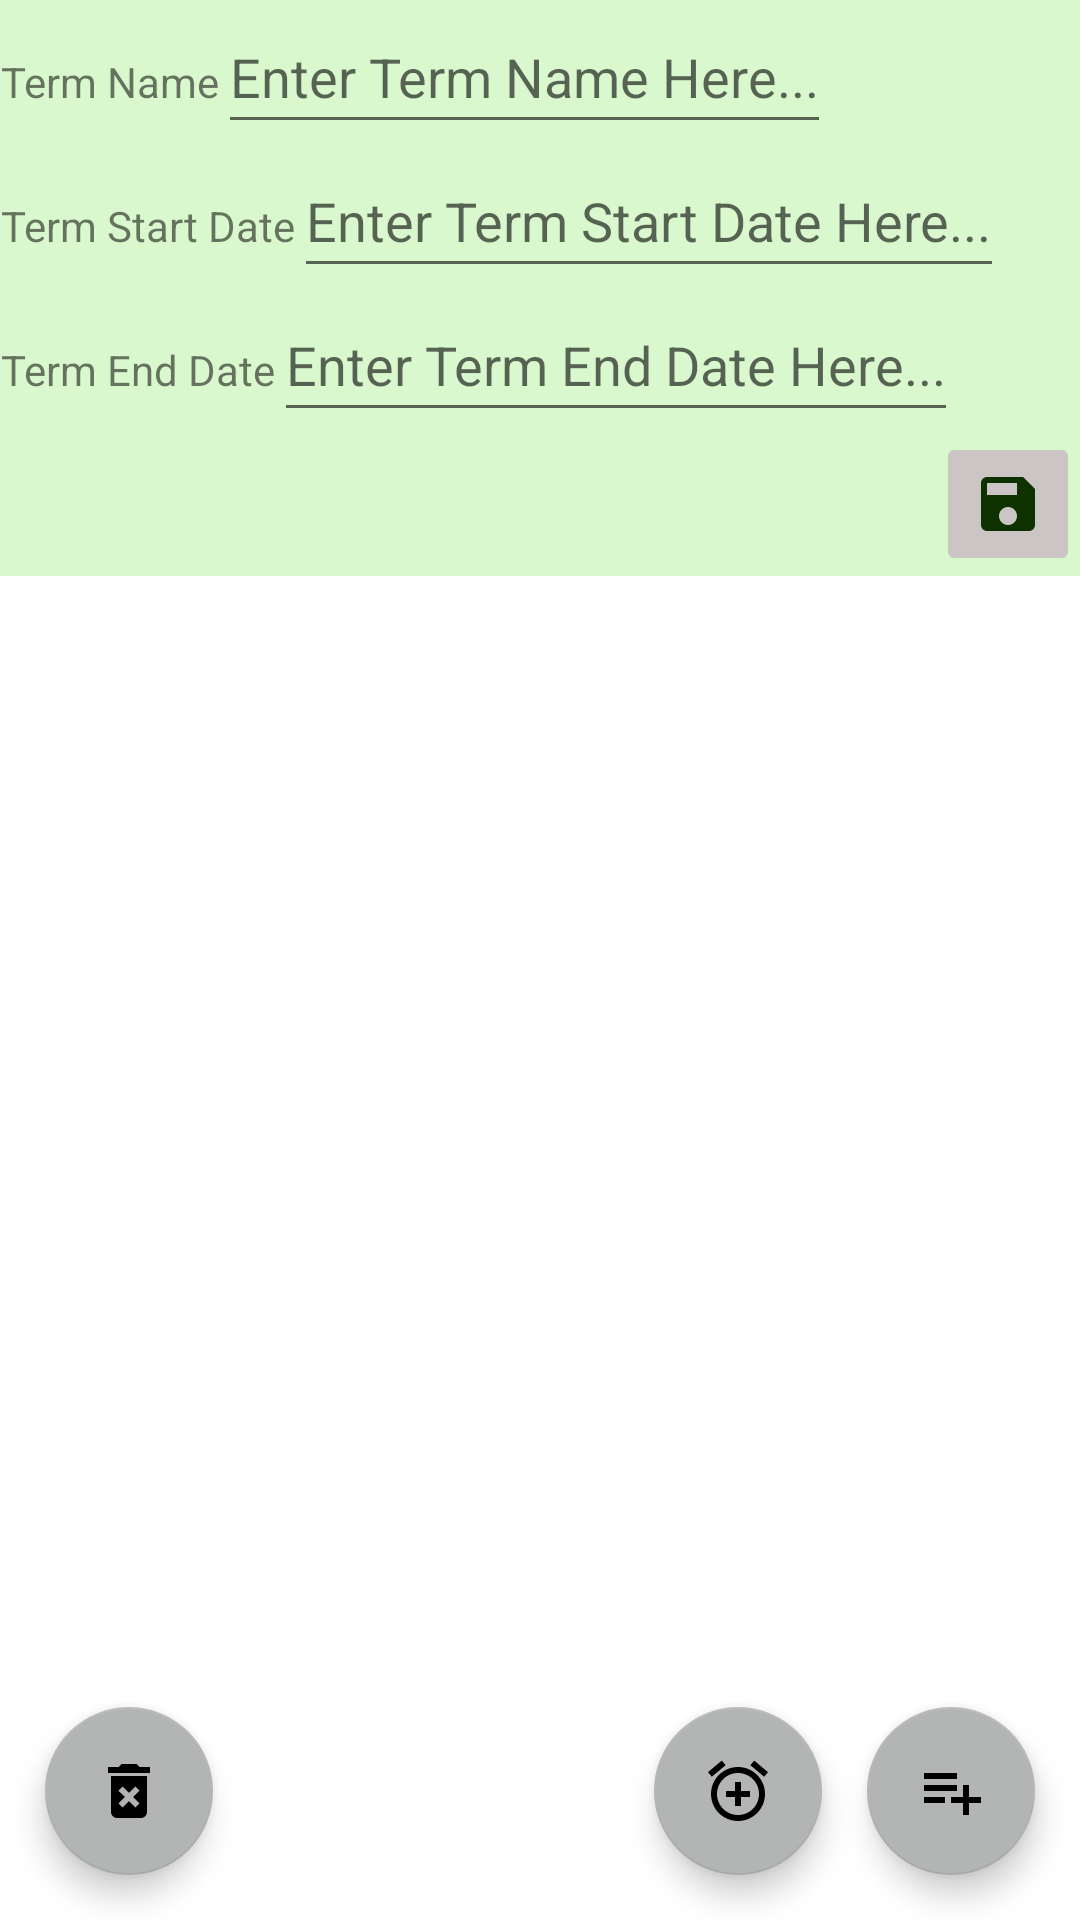

Screen size 1080px x 1920px. Icon name, then its box in pixels as (x1, y1, x2, y2):
add alarm: (654, 1707, 822, 1875)
Add New Course: (867, 1707, 1035, 1875)
delete forever: (45, 1707, 213, 1875)
Save: (948, 450, 1068, 558)
